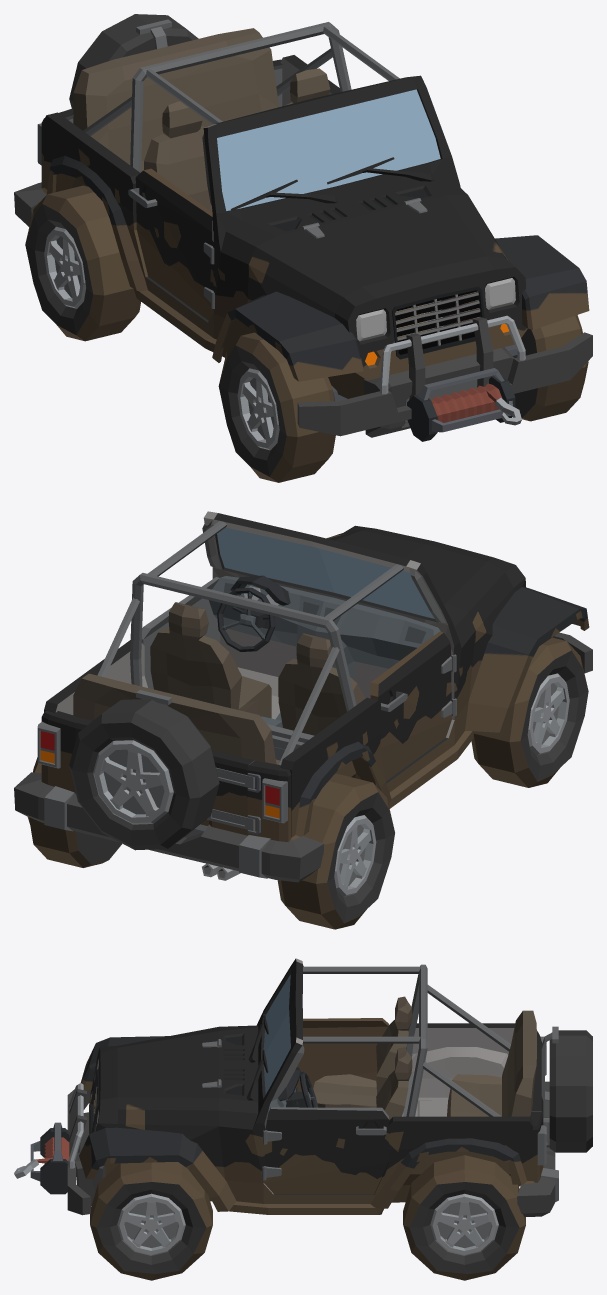
The model's file is SK_Veh_4x4_Car_Alt_01.fbx.
3 renders of one model, top to bottom at view 1: azimuth 30°, elevation 25°; view 2: azimuth 150°, elevation 25°; view 3: azimuth 270°, elevation 25°, orthographic. The views are drawn at different scales.
Visible parts, largest first — view 1: SK_Veh_4x4_Car_Alt_01, SK_Veh_4x4_Car_Glass_Alt_01, SK_Veh_4x4_Car_Rear_Seat_Alt_01, SK_Veh_4x4_Car_Wheel_rr_Alt_01, SK_Veh_4x4_Car_Wheel_fr_Alt_01, SK_Veh_4x4_Car_Door_R_Alt_01, SK_Veh_4x4_Car_Rear_Door_Alt_01, SK_Veh_4x4_Car_Wheel_fl_Alt_01; view 2: SK_Veh_4x4_Car_Alt_01, SK_Veh_4x4_Car_Rear_Door_Alt_01, SK_Veh_4x4_Car_Wheel_rr_Alt_01, SK_Veh_4x4_Car_Wheel_fr_Alt_01, SK_Veh_4x4_Car_Door_R_Alt_01, SK_Veh_4x4_Car_Glass_Alt_01, SK_Veh_4x4_Car_Rear_Seat_Alt_01, SK_Veh_4x4_Car_Wheel_rl_Alt_01, SK_Veh_4x4_Car_Door_L_Alt_01, SK_Veh_4x4_Car_SteeringW_Alt_01; view 3: SK_Veh_4x4_Car_Alt_01, SK_Veh_4x4_Car_Wheel_rl_Alt_01, SK_Veh_4x4_Car_Wheel_fl_Alt_01, SK_Veh_4x4_Car_Door_L_Alt_01, SK_Veh_4x4_Car_Rear_Door_Alt_01, SK_Veh_4x4_Car_Rear_Seat_Alt_01, SK_Veh_4x4_Car_Door_R_Alt_01, SK_Veh_4x4_Car_Glass_Alt_01.
Part boxes in pixels (x1,y1,x2,y2): SK_Veh_4x4_Car_Alt_01: (14,22,592,441); SK_Veh_4x4_Car_Glass_Alt_01: (217,89,440,210); SK_Veh_4x4_Car_Rear_Seat_Alt_01: (73,28,278,171); SK_Veh_4x4_Car_Wheel_rr_Alt_01: (25,185,140,341); SK_Veh_4x4_Car_Wheel_fr_Alt_01: (218,332,335,482); SK_Veh_4x4_Car_Door_R_Alt_01: (128,168,214,320); SK_Veh_4x4_Car_Rear_Door_Alt_01: (69,14,198,108); SK_Veh_4x4_Car_Wheel_fl_Alt_01: (514,315,588,421); SK_Veh_4x4_Car_Alt_01: (14,511,592,882); SK_Veh_4x4_Car_Rear_Door_Alt_01: (69,690,255,850); SK_Veh_4x4_Car_Wheel_rr_Alt_01: (277,774,394,929); SK_Veh_4x4_Car_Wheel_fr_Alt_01: (471,637,588,787); SK_Veh_4x4_Car_Door_R_Alt_01: (370,631,456,780); SK_Veh_4x4_Car_Glass_Alt_01: (217,527,434,618); SK_Veh_4x4_Car_Rear_Seat_Alt_01: (73,673,279,764); SK_Veh_4x4_Car_Wheel_rl_Alt_01: (27,757,122,867); SK_Veh_4x4_Car_Door_L_Alt_01: (141,577,220,689); SK_Veh_4x4_Car_SteeringW_Alt_01: (217,587,275,651); SK_Veh_4x4_Car_Alt_01: (14,958,558,1216); SK_Veh_4x4_Car_Wheel_rl_Alt_01: (403,1155,525,1280); SK_Veh_4x4_Car_Wheel_fl_Alt_01: (90,1162,212,1280); SK_Veh_4x4_Car_Door_L_Alt_01: (262,1107,388,1193); SK_Veh_4x4_Car_Rear_Door_Alt_01: (531,1026,592,1152); SK_Veh_4x4_Car_Rear_Seat_Alt_01: (447,1010,536,1116); SK_Veh_4x4_Car_Door_R_Alt_01: (295,1018,388,1102); SK_Veh_4x4_Car_Glass_Alt_01: (263,974,290,1094).
Bounding box in the file's own units: 228 × 199 × 465.
